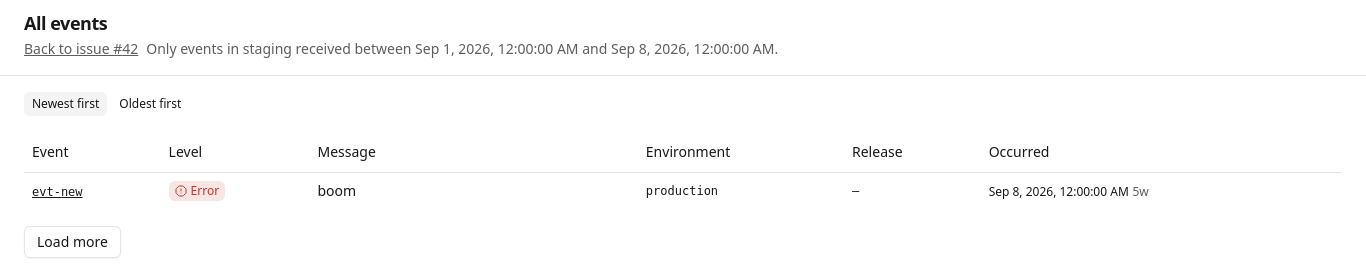
Test: IssueEventsPage › restarts from the first page in the other direction when the order is switched, keeping the scope
Check: the link "evt-new" is shown, box [32,185,83,199]
Click the button "Oldest first" at [150, 104], box [111,92,189,116]
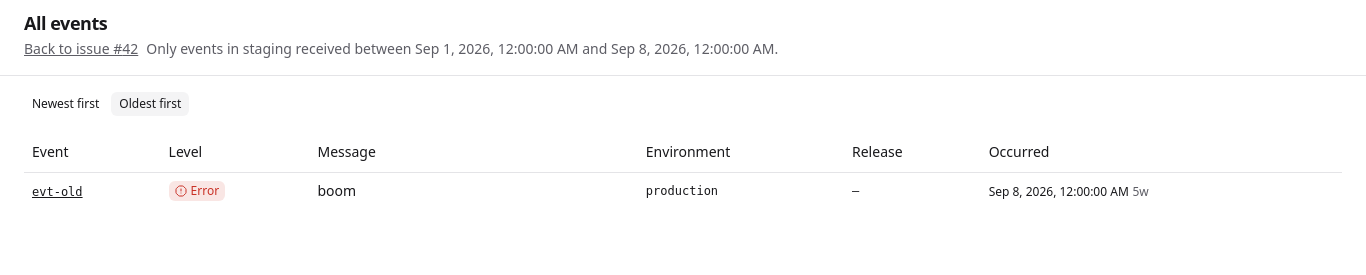
Check: the link "evt-old" is shown, box [32,185,83,199]
Check: the link "evt-new" is gone
